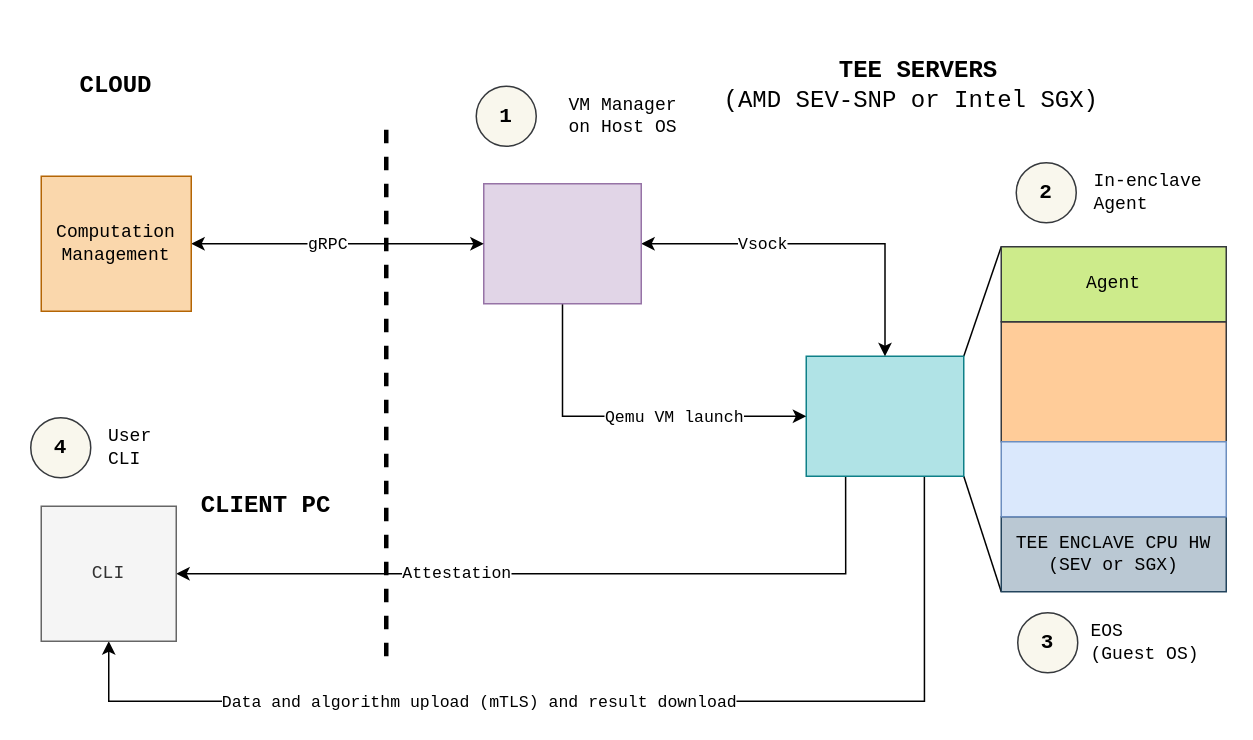
Some shapes in this 1253 by 740 pixel diagram are drawn without their labels. The box of each missing label's shape, as (x1, y1, x2, y2) in pixels:
Config files and certs for TLS channels with clients to upload the data: (1000, 320, 1226, 442)
HAL and Runtime: (1000, 440, 1226, 517)
Manager (TEE provisioning and configuration): (482, 182, 641, 304)
TEE: (805, 355, 964, 476)
